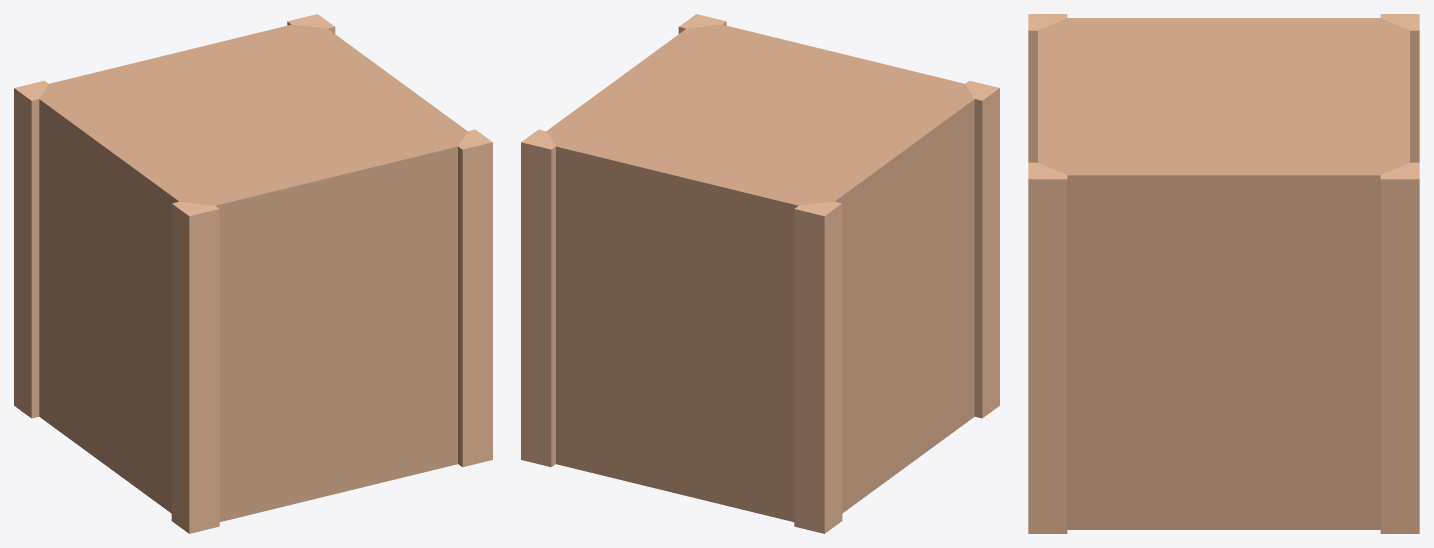
The model's file is wallWoodBlock.glb.
3 renders of one model, left to right at view 1: azimuth 30°, elevation 25°; view 2: azimuth 150°, elevation 25°; view 3: azimuth 270°, elevation 25°, orthographic. The views are drawn at different scales.
Parts seen in each view (by area): view 1: wallWoodBlock; view 2: wallWoodBlock; view 3: wallWoodBlock.
Boxes of the visible parts, box(x1,y1,x2,y2) form: wallWoodBlock: box(14, 14, 492, 533); wallWoodBlock: box(521, 14, 999, 533); wallWoodBlock: box(1028, 14, 1419, 533).
Size of the model in its own units: 1 by 1 by 1.
